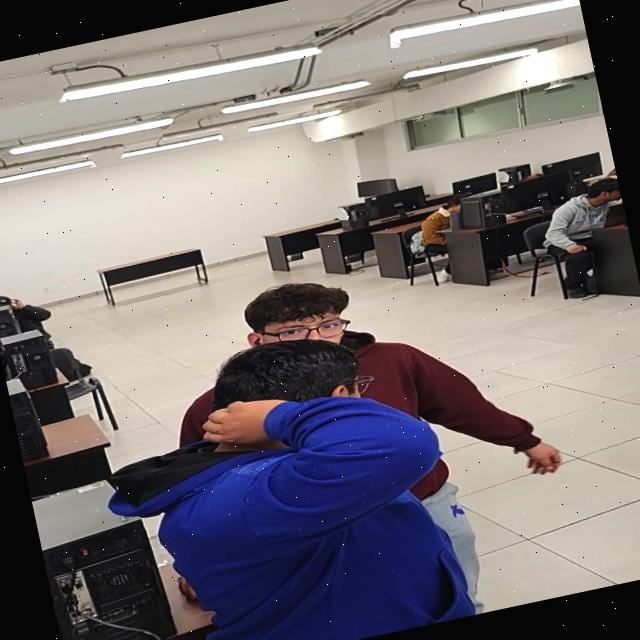Persona: (107, 307, 489, 640)
